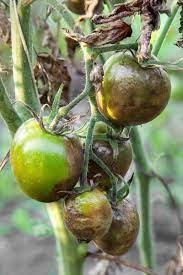tomato late blight: (12, 119, 84, 205), (64, 181, 140, 258), (96, 53, 171, 129), (82, 111, 136, 186)
